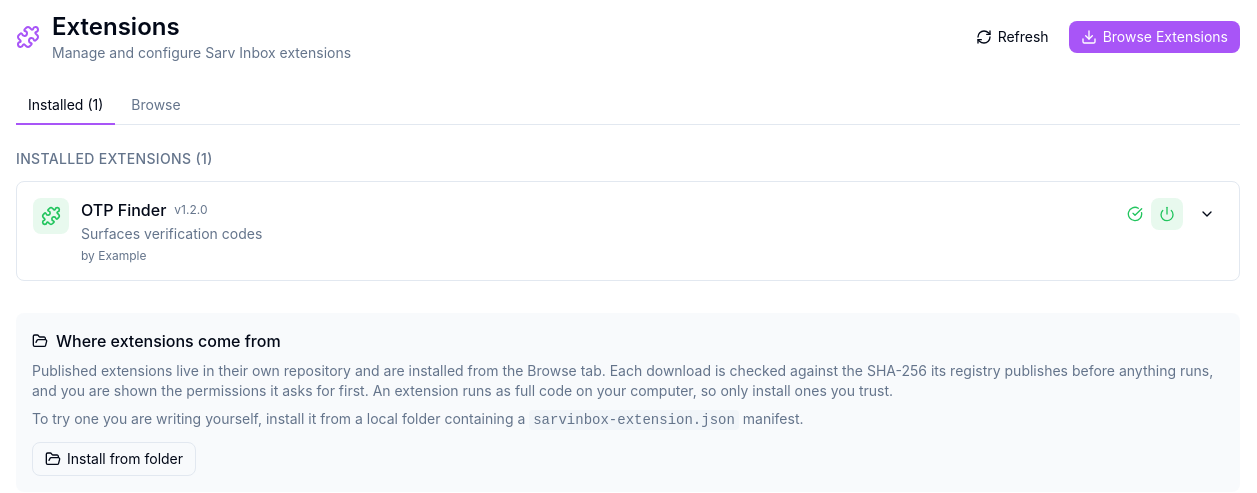
Test case: ExtensionManager tooltips › names the header controls and the tabs
Hover over the button "Refresh": (1012, 37) [964, 21, 1061, 53]
Wait 100 ms
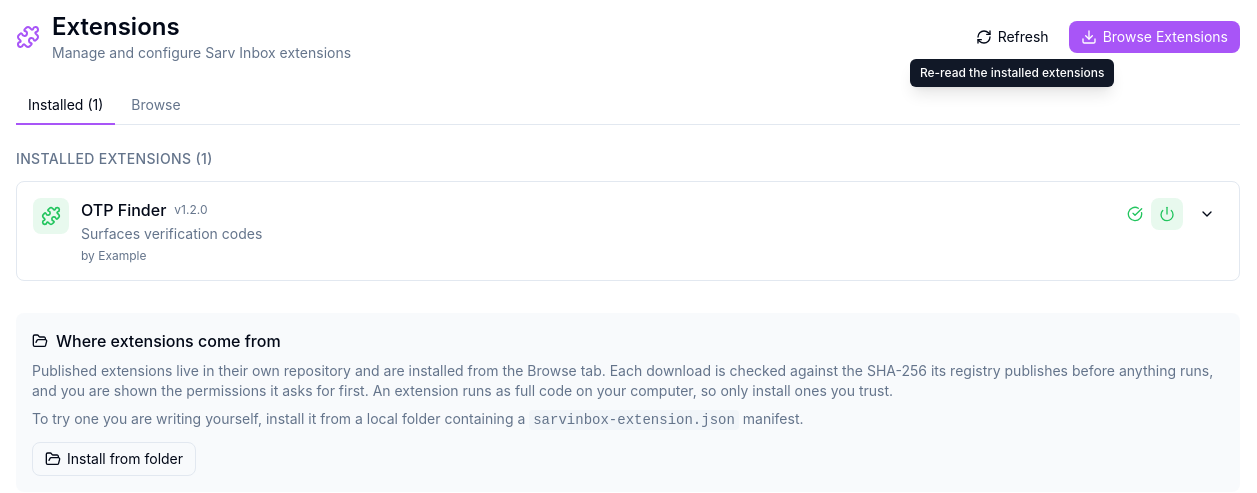
Check: the text "Re-read the installed extensions" is shown, box [920, 65, 1104, 81]
Move the pointer off the button "Refresh", box [964, 21, 1061, 53]
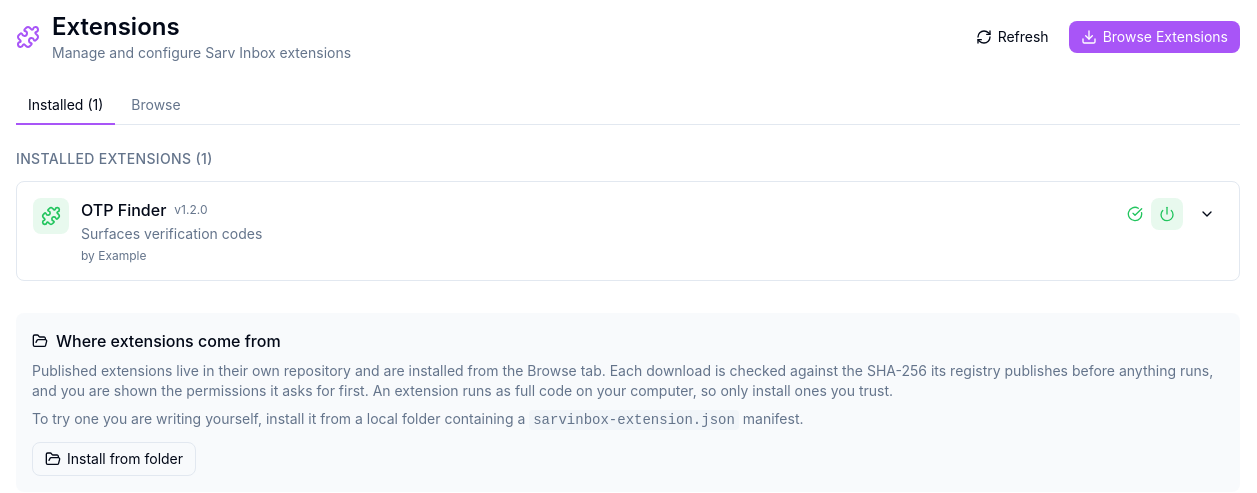
Hover over the button "Browse": (156, 106) [119, 87, 193, 125]
Wait 100 ms
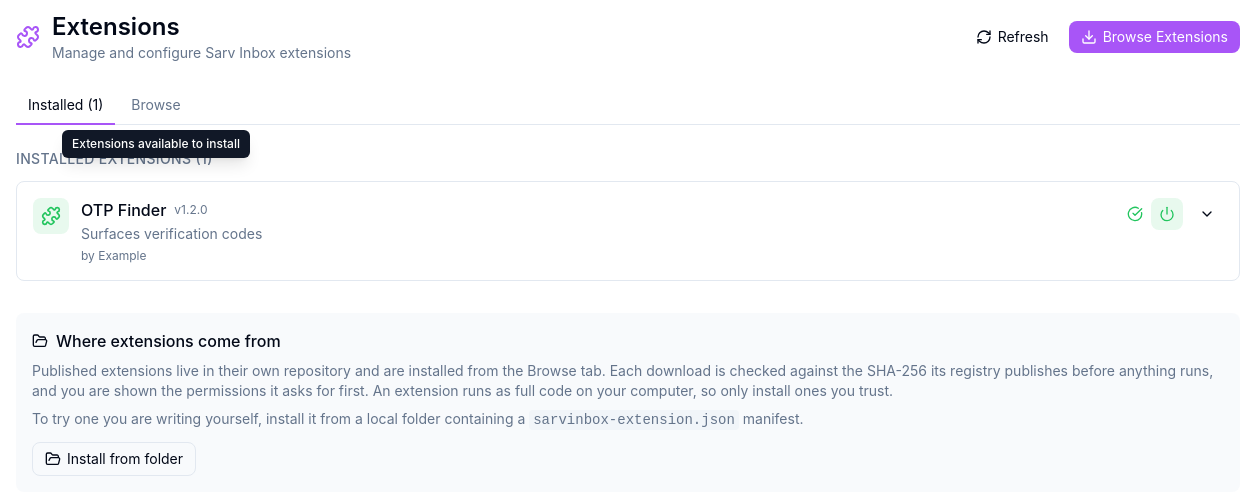
Check: the text "Extensions available to install" is shown, box [72, 136, 240, 152]
